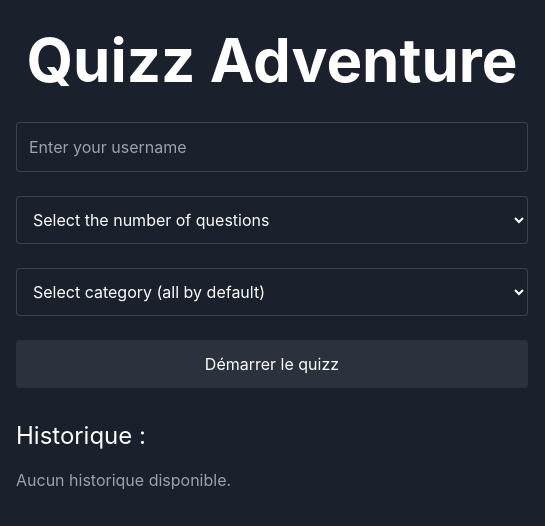
it: Application de Quiz › devrait afficher une erreur si le nom d'utilisateur est vide
Click the button "Démarrer le quizz" at (272, 364), box [16,340,528,388]
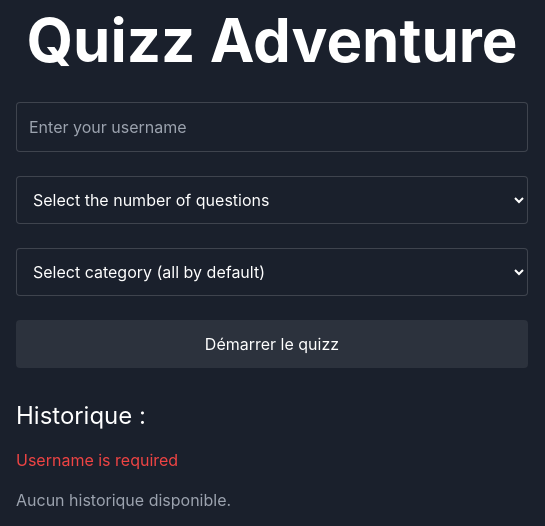
Result: the text "Username is required" is shown at [16,450,178,470]
